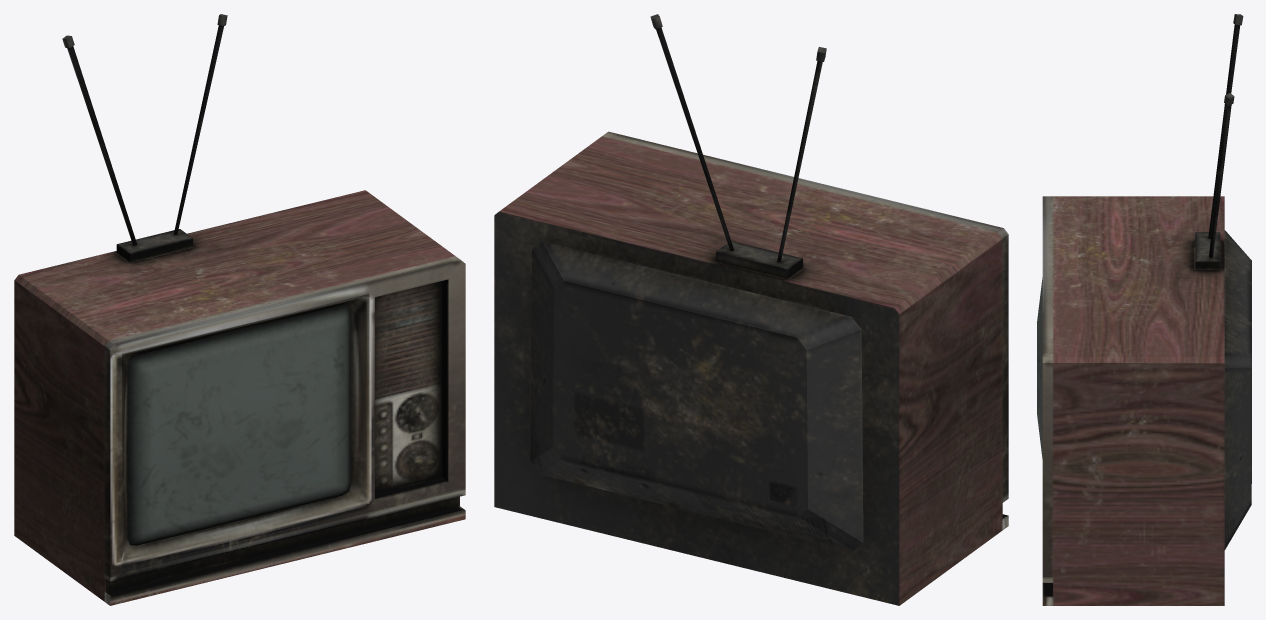
The model's file is RetroTV.FBX.
The picture shows the model from 3 angles, left to right: view 1: azimuth 30°, elevation 25°; view 2: azimuth 150°, elevation 25°; view 3: azimuth 270°, elevation 25°; orthographic projection. The views are drawn at different scales.
Visible parts, largest first — view 1: RetroTV; view 2: RetroTV; view 3: RetroTV.
Boxes of the visible parts, x1,y1,x2,y2 form: RetroTV: [14, 14, 465, 605]; RetroTV: [494, 14, 1008, 605]; RetroTV: [1037, 14, 1251, 605].
Size of the model in its own units: 83.73 by 108 by 46.16.
